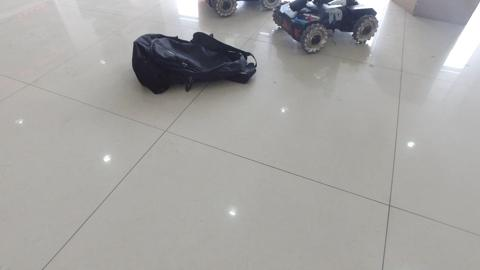bag: (129, 34, 258, 93)
chariot: (271, 1, 379, 55)
